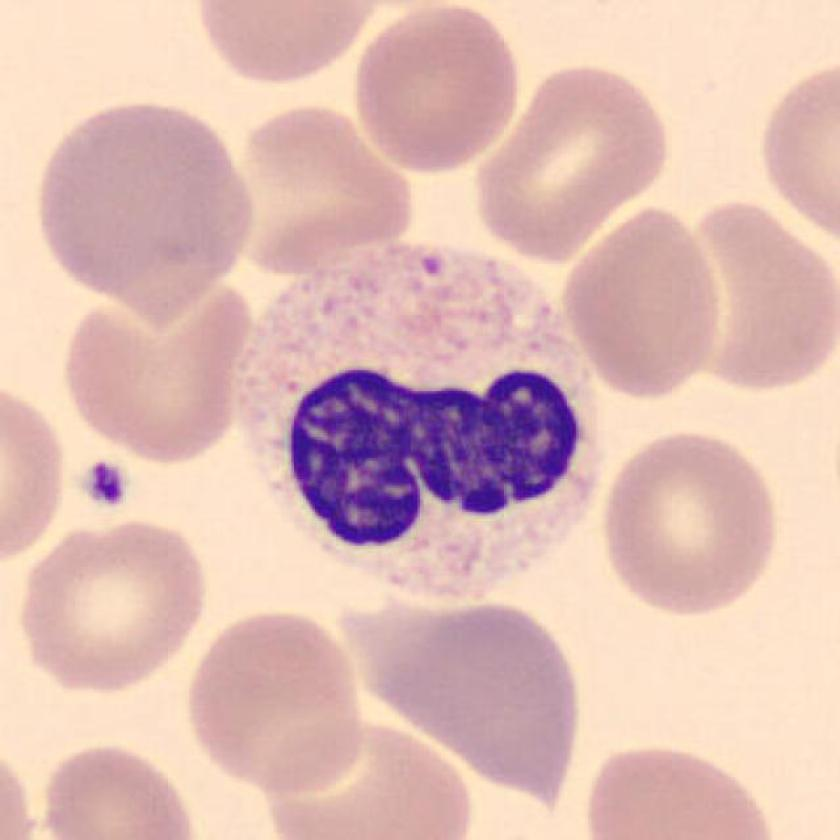neutrophil: (232, 249, 603, 597)
